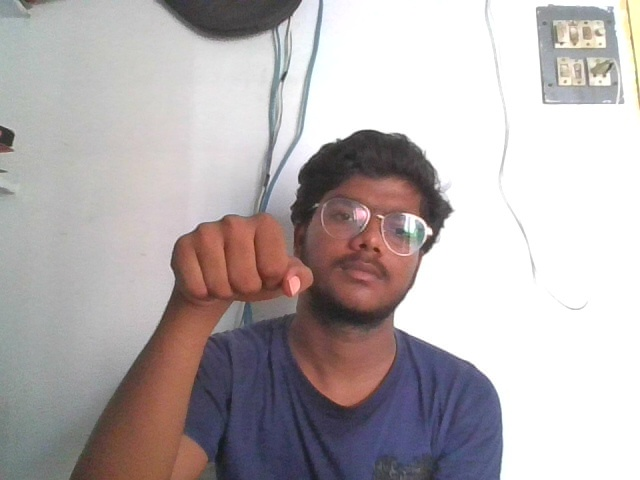Yes: (160, 207, 316, 312)
